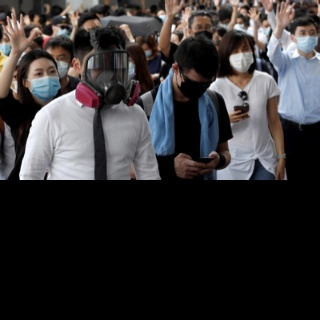with_mask: (80, 56, 129, 105), (26, 65, 60, 101), (178, 72, 212, 101), (228, 44, 254, 72), (47, 51, 70, 78), (296, 28, 318, 52), (192, 22, 214, 41), (28, 32, 44, 48), (55, 23, 71, 39), (0, 36, 12, 56)
